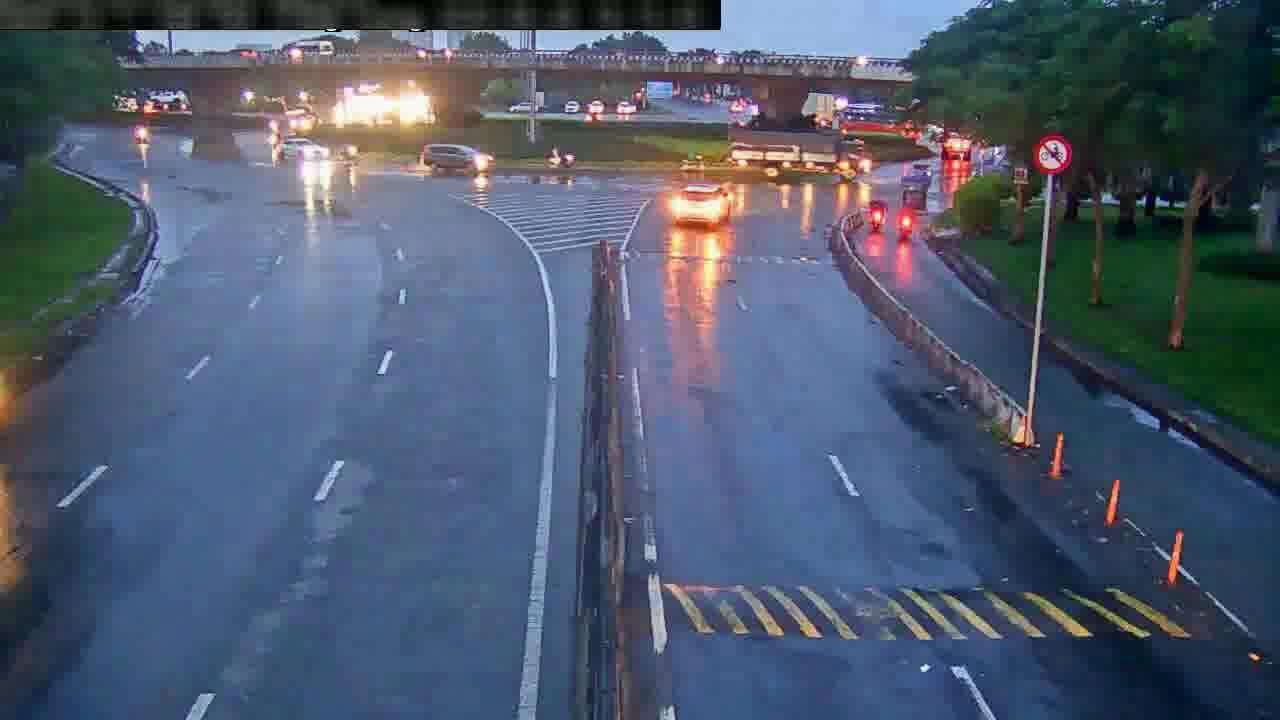container: (726, 127, 875, 183), (673, 180, 733, 230), (418, 141, 492, 175), (274, 134, 330, 160)
motorbike: (897, 205, 913, 248), (868, 192, 884, 235)
